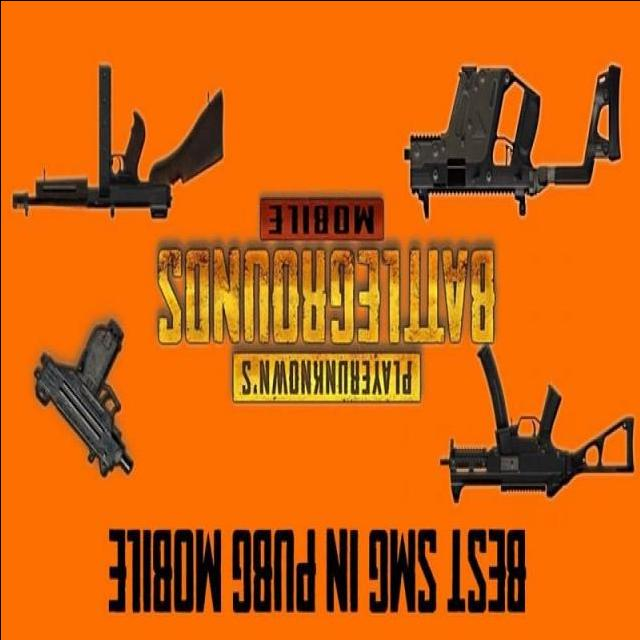smg: (394, 27, 629, 232), (10, 51, 228, 229), (444, 333, 639, 511), (39, 306, 148, 506)
